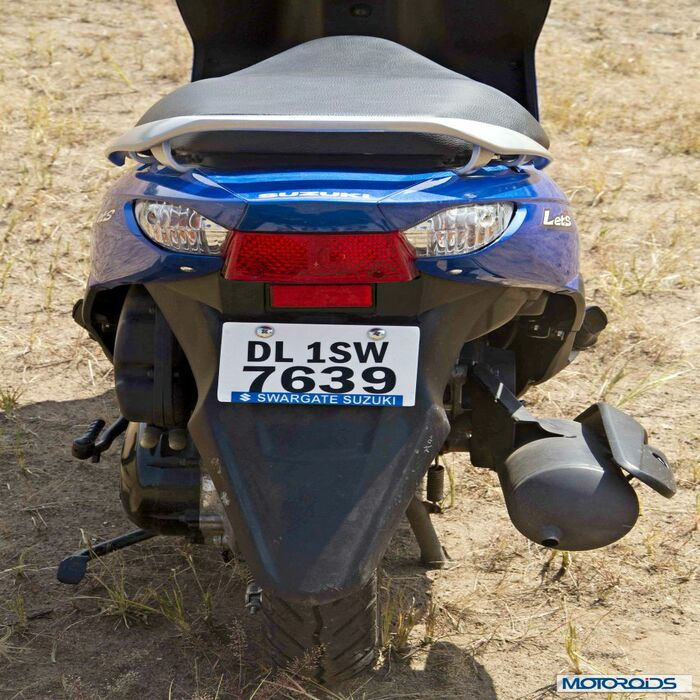n: (221, 314, 415, 409)
